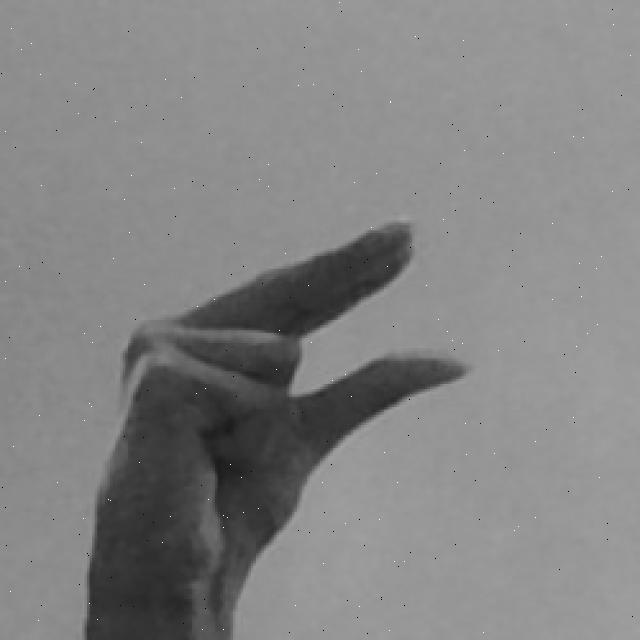G: (81, 217, 472, 640)
